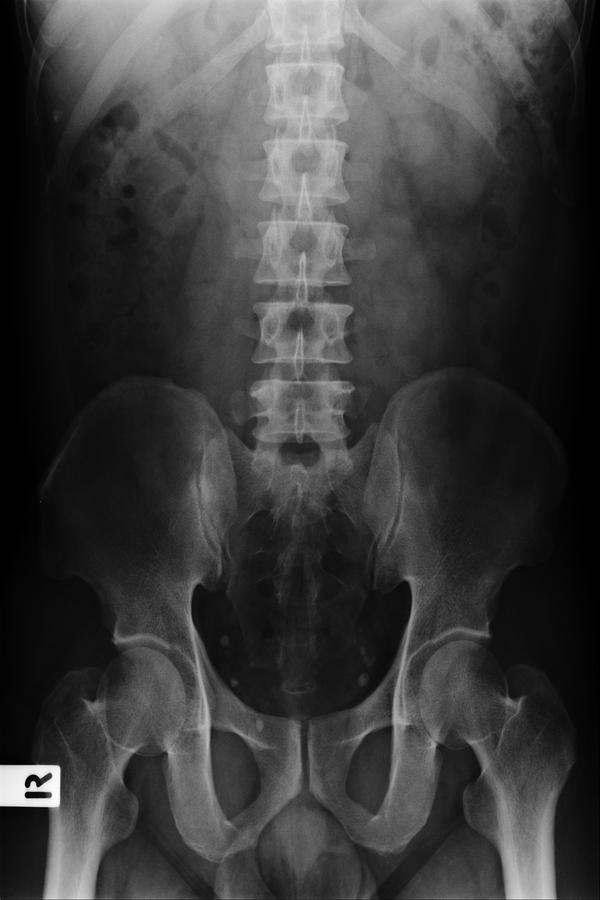not lumbar scoliosis: (242, 132, 360, 490)
